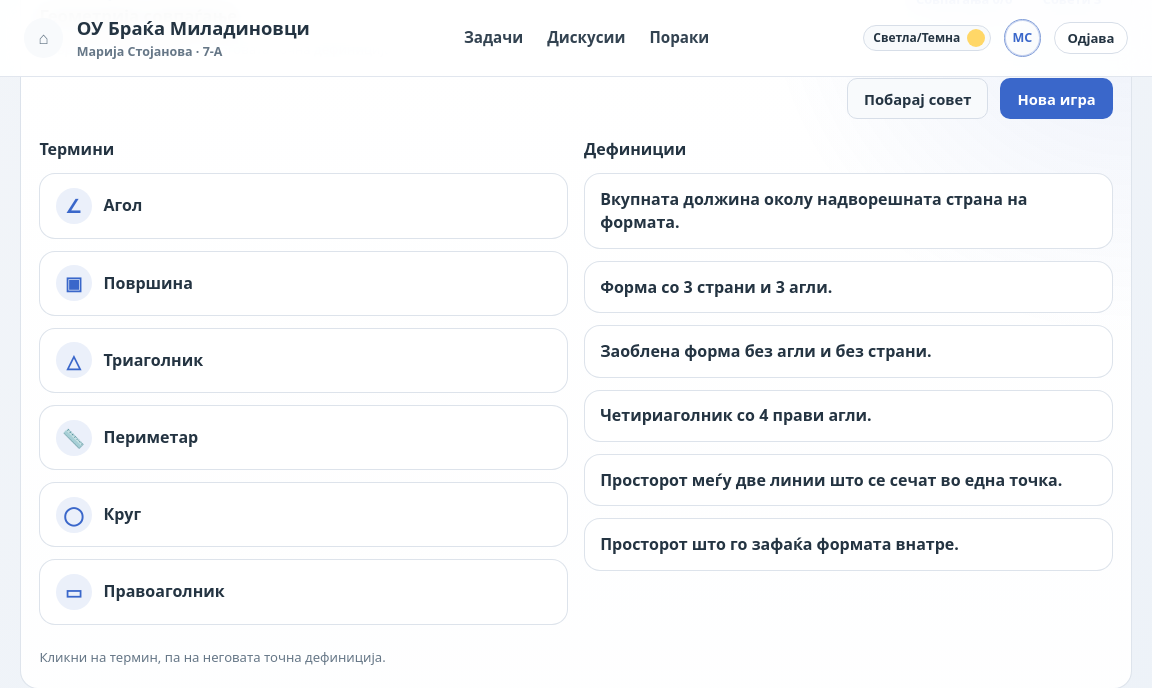
learning games page opens the geometry gameplay when geometry is implemented
This screenshot has width=1152, height=688.
(page scrolled)
Expected: the heading "Геометрија совпаѓање" is shown, 39,4 -> 237,27
Expected: the text "Поврзи го секој термин со неговата точна дефиниција." is shown, 39,40 -> 395,60
Click the button "△ Триаголник".
click(74, 360)  # box 39,328 -> 568,393
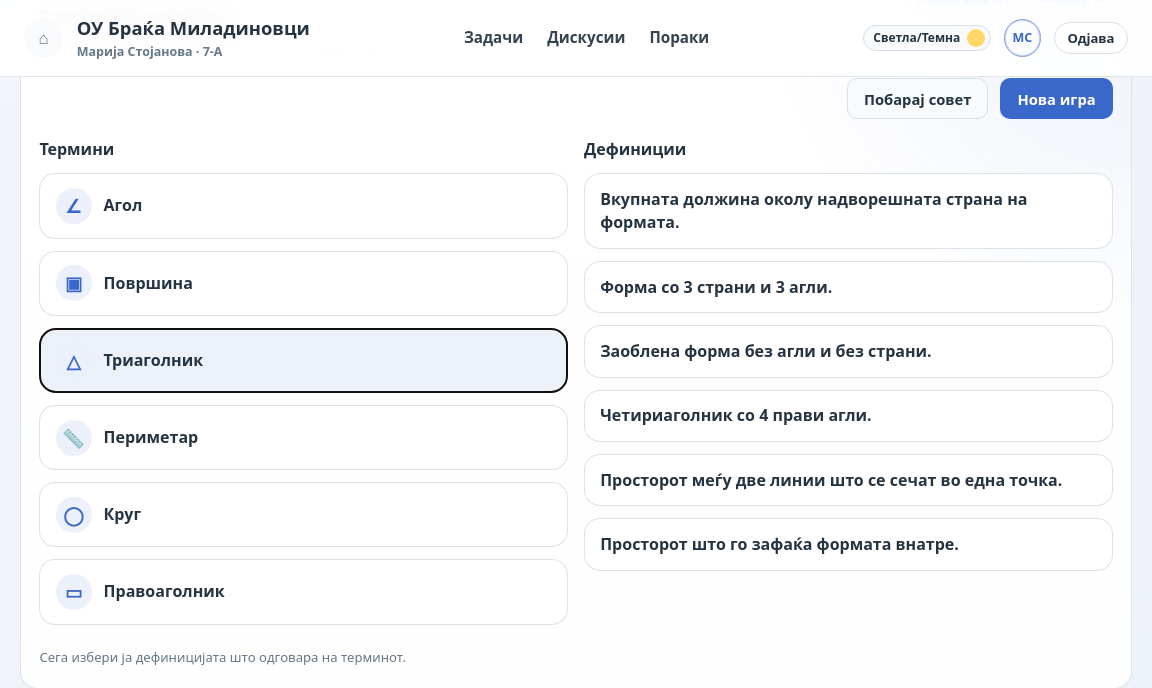
Click the button "Форма со 3 страни и 3 агли.".
click(716, 287)  # box 584,261 -> 1113,313
(page scrolled)
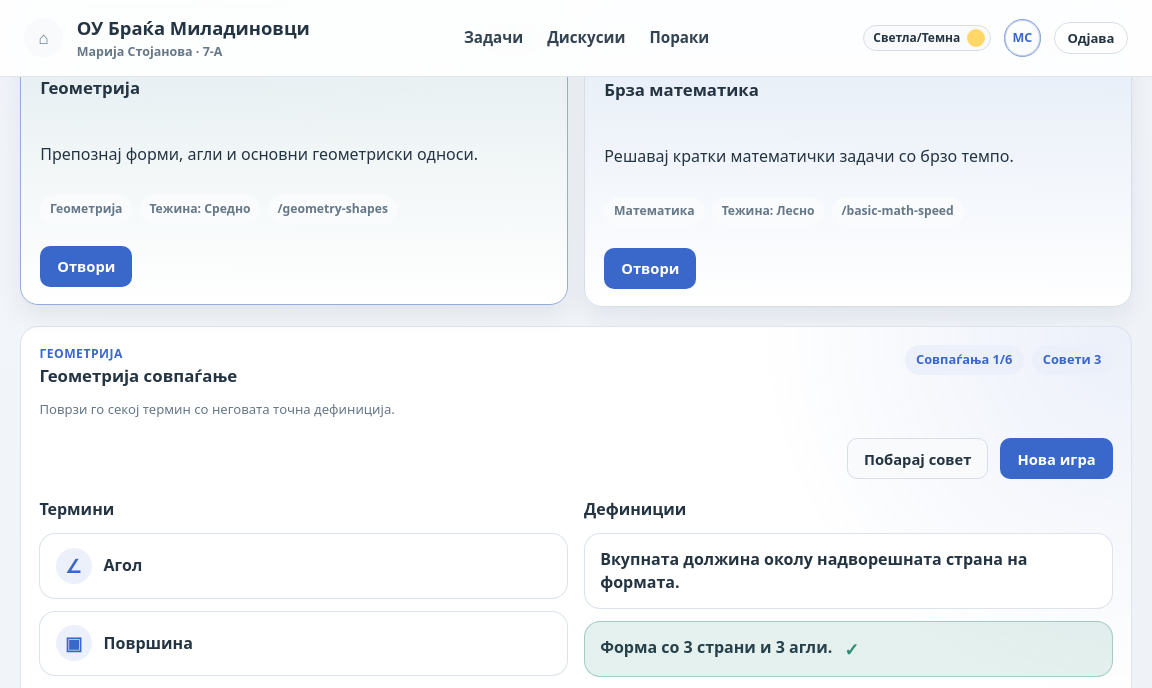
Expected: the text "Совпаѓања 1/6" is shown, 905,345 -> 1024,375
